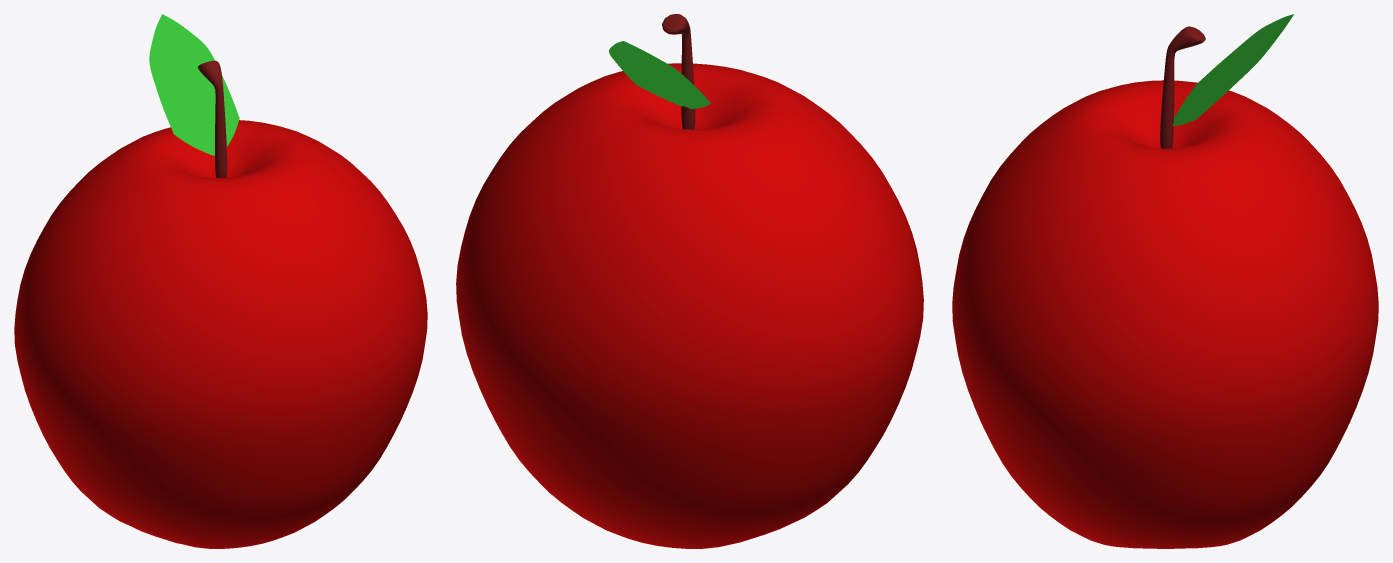
The model's file is Apple_Final.fbx.
3 renders of one model, left to right at view 1: azimuth 30°, elevation 25°; view 2: azimuth 150°, elevation 25°; view 3: azimuth 270°, elevation 25°, orthographic. The views are drawn at different scales.
Visible parts, largest first — view 1: Apple, Leaf1, Stalk1; view 2: Apple, Leaf1, Stalk1; view 3: Apple, Leaf1, Stalk1.
Boxes of the visible parts, x1=… form: Apple: x1=14, y1=120, x2=427, y2=548; Leaf1: x1=149, y1=14, x2=239, y2=155; Stalk1: x1=198, y1=60, x2=227, y2=177; Apple: x1=456, y1=63, x2=923, y2=548; Leaf1: x1=609, y1=41, x2=710, y2=108; Stalk1: x1=662, y1=14, x2=695, y2=129; Apple: x1=952, y1=80, x2=1378, y2=548; Leaf1: x1=1172, y1=14, x2=1293, y2=125; Stalk1: x1=1160, y1=26, x2=1205, y2=148.
Size of the model in its own units: 1.59 by 1.94 by 1.47.
